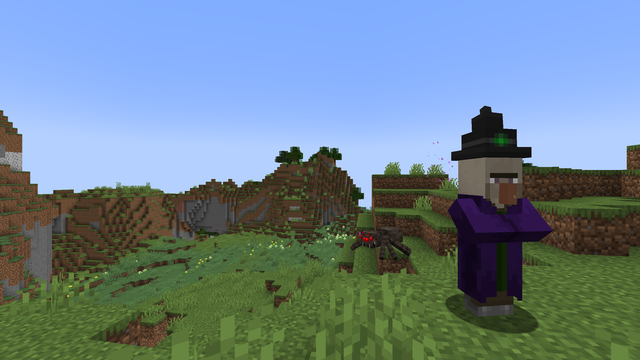araignees: (359, 223, 402, 258)
sorcieres: (453, 150, 529, 326)
